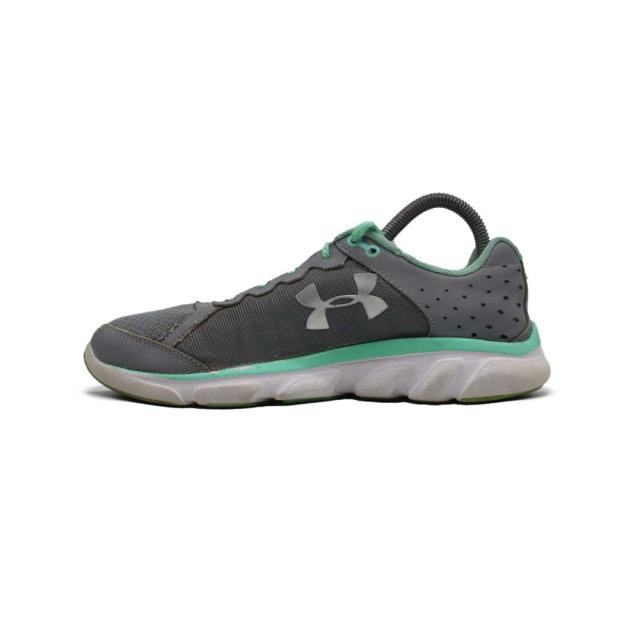heel: (481, 237, 529, 343)
midsole: (78, 327, 552, 406)
uppersole: (89, 222, 487, 377)
